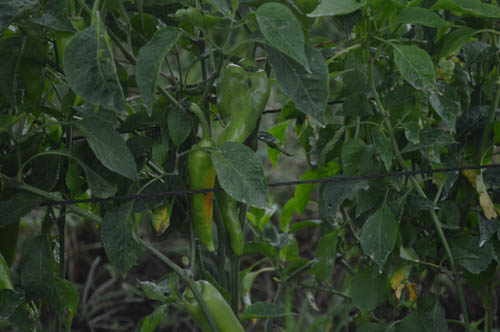ChiliPepper: (183, 142, 218, 253), (223, 72, 270, 153), (185, 284, 239, 331), (219, 193, 245, 252), (218, 64, 245, 117)
